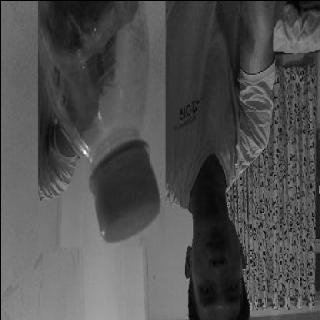plastic_bottles: (37, 0, 165, 246)
